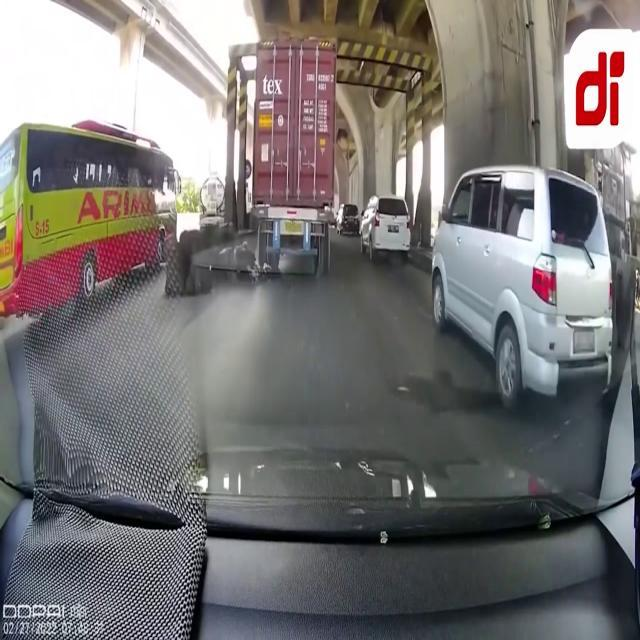normal: (436, 160, 616, 383), (13, 124, 191, 293), (361, 187, 413, 266)
single accident: (227, 43, 340, 283)
